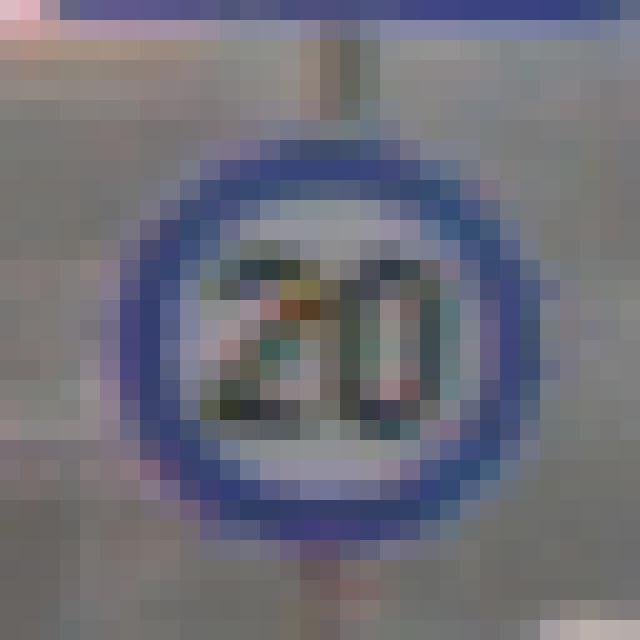SPEED LIMIT 20: (108, 132, 534, 514)
